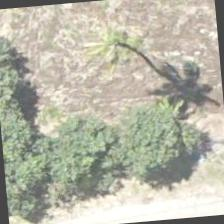Kelapa_Sawit: (122, 28, 220, 126)
